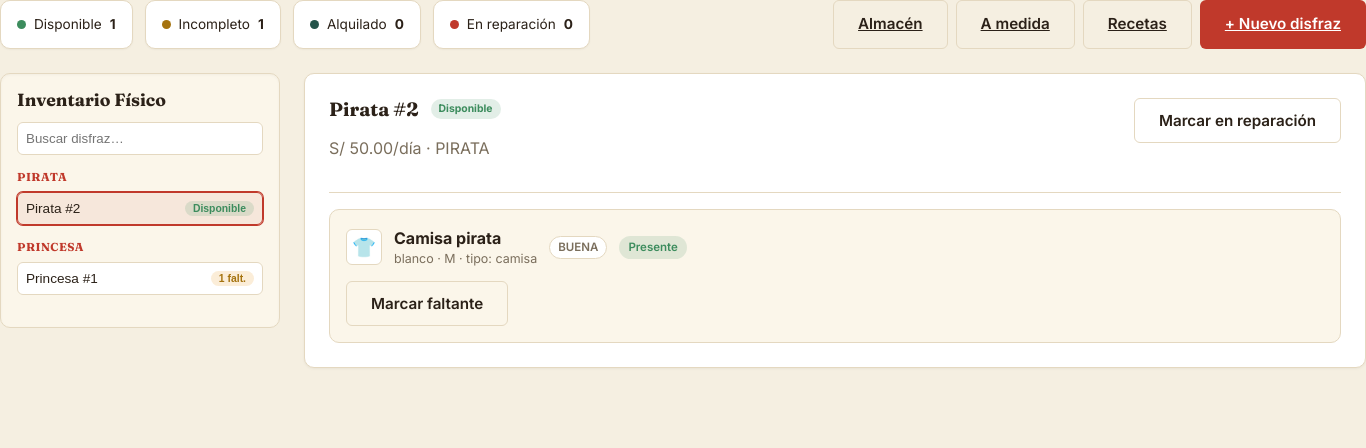
Test: Pruebas funcionales - Inventario físico › PF-FE-54: muestra un error del backend cuando falla una operación del inventario
The width and height of the screenshot is (1366, 448).
Step 1. Click the button "Marcar faltante" → (427, 303), box [346,281,508,326]
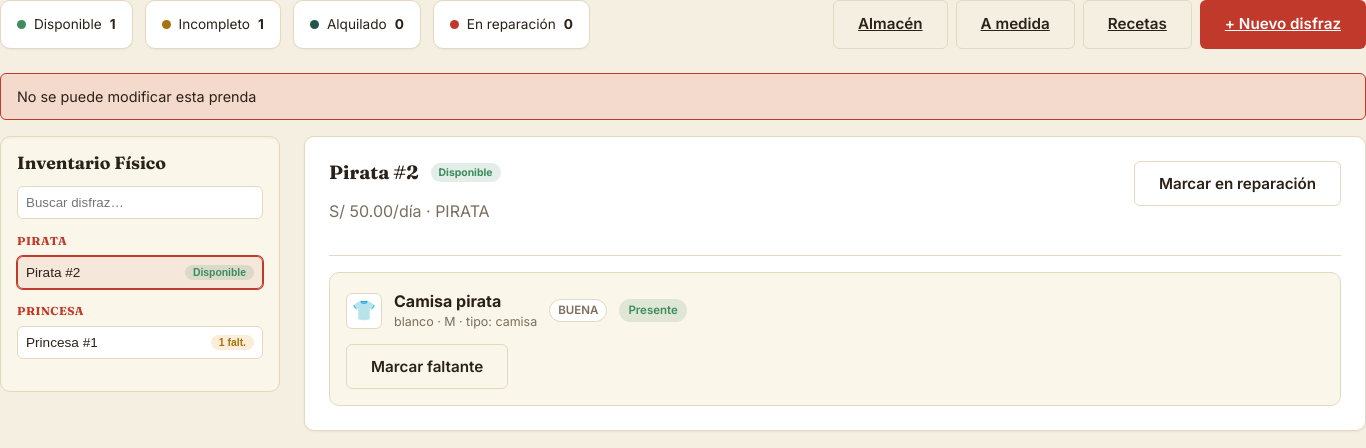
Expected: the message reads "No se puede modificar esta prenda", [17,88,256,105]
